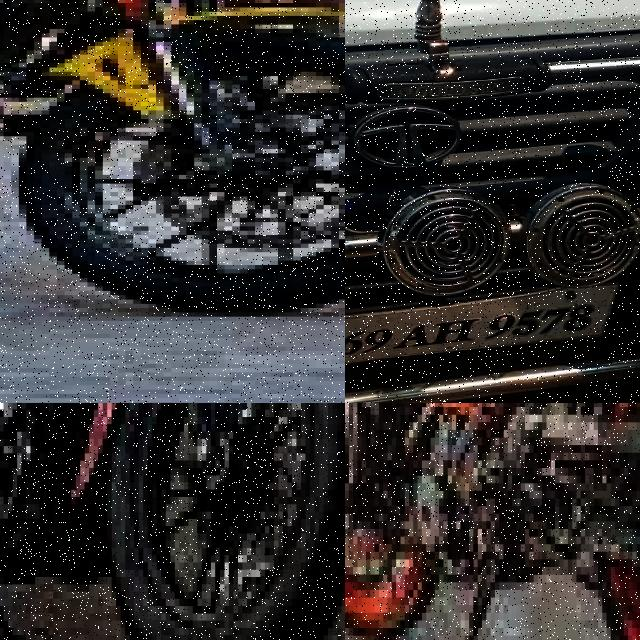bike: (0, 0, 345, 303), (0, 403, 345, 640), (345, 403, 640, 640)
car: (345, 0, 640, 403)
